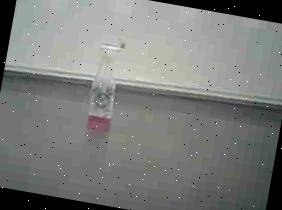hazard: (77, 37, 134, 137)
